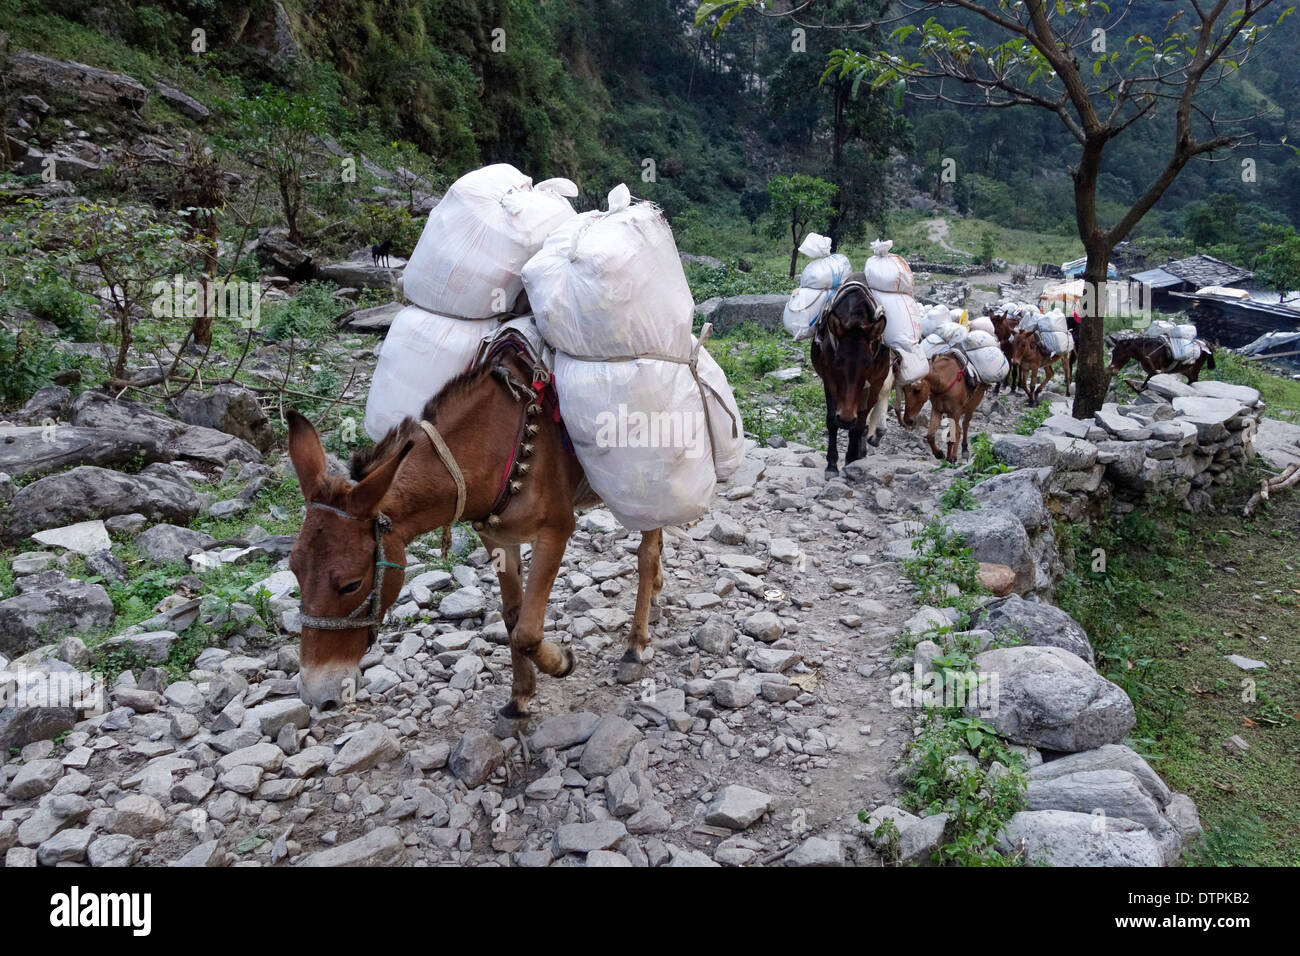equine: (243, 298, 741, 695), (803, 274, 909, 479), (880, 335, 1020, 475), (1099, 331, 1230, 395), (1001, 328, 1084, 395)
